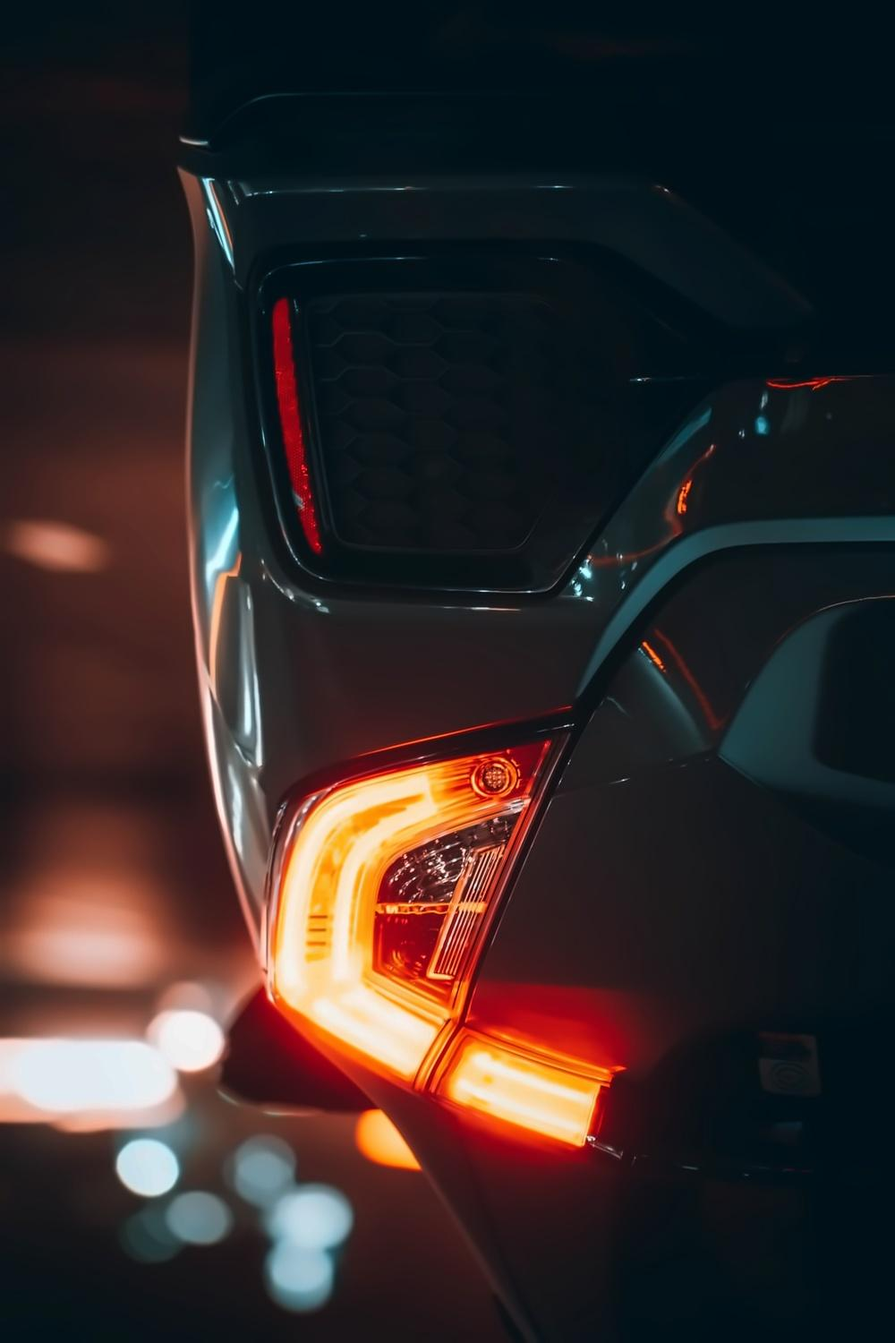Car boot: (370, 484, 895, 1225)
Rear bumper: (111, 105, 895, 734)
Rear light - -R-: (248, 663, 630, 1166)
